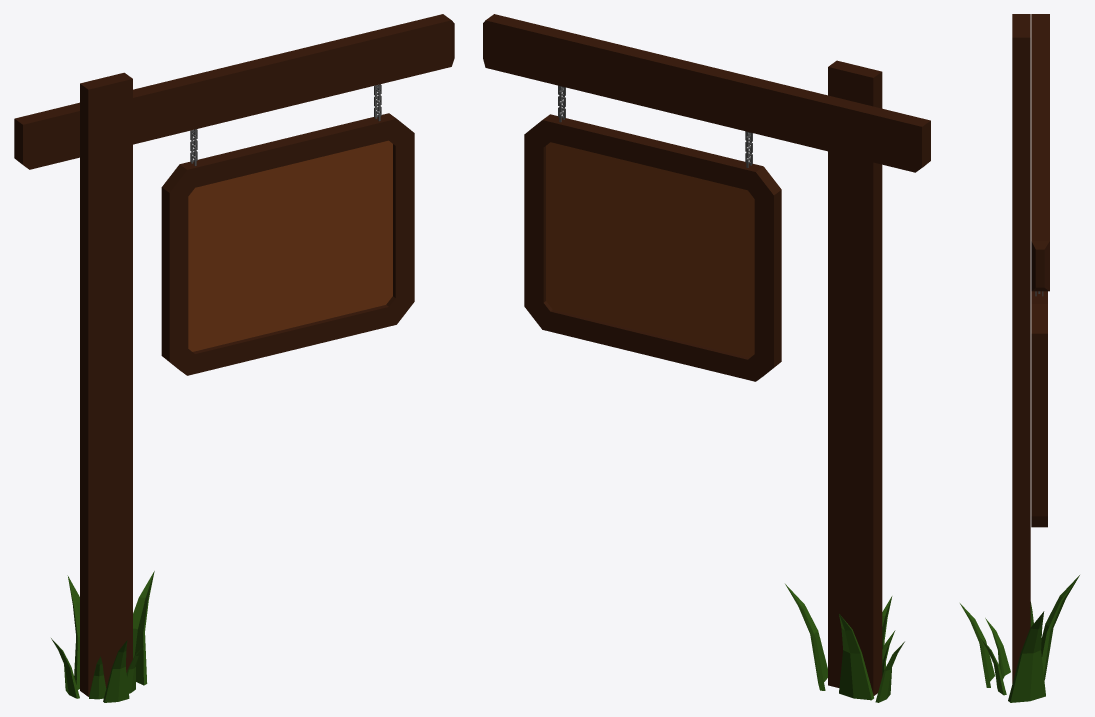
File: Sign10.obj
3 renders of one model, left to right at view 1: azimuth 30°, elevation 25°; view 2: azimuth 150°, elevation 25°; view 3: azimuth 270°, elevation 25°, orthographic. The views are drawn at different scales.
Visible parts, largest first — view 1: Sign10; view 2: Sign10; view 3: Sign10.
Boxes of the visible parts, x1=… form: Sign10: x1=14, y1=14, x2=454, y2=702; Sign10: x1=483, y1=14, x2=930, y2=702; Sign10: x1=960, y1=14, x2=1079, y2=702.
Bounding box in the file's own units: 1.55 × 2.08 × 0.3487.
